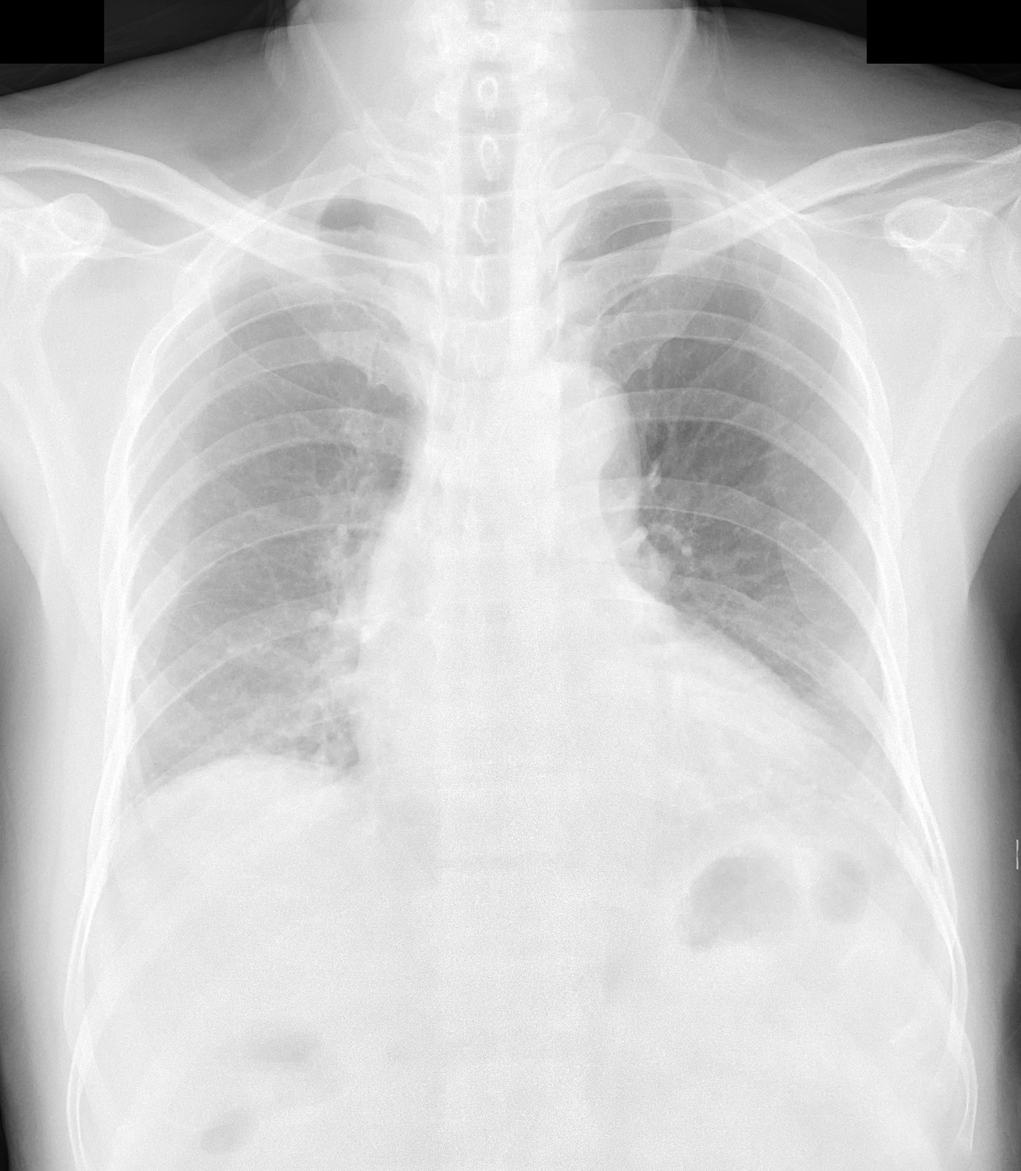Aortic enlargement: (489, 356, 640, 519)
Cardiomegaly: (348, 645, 861, 811)
Pleural thickening: (574, 176, 739, 216)
